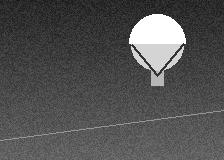helmet: (129, 14, 185, 75)
